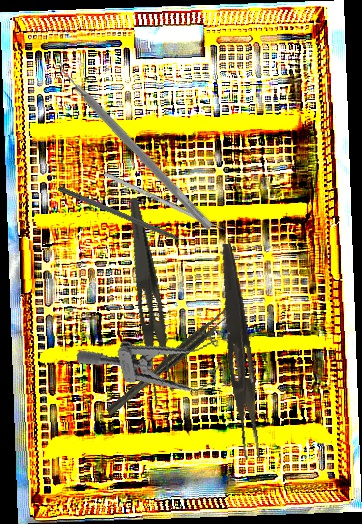Dressing Forceps: (106, 196, 185, 407), (210, 242, 269, 461)
Hook Surgical: (56, 185, 199, 252)
Pusher: (103, 171, 233, 236)
Spatula Surgical: (48, 53, 221, 232)
Speculum: (75, 316, 242, 418)
Tissue Forceps: (102, 307, 233, 417)
